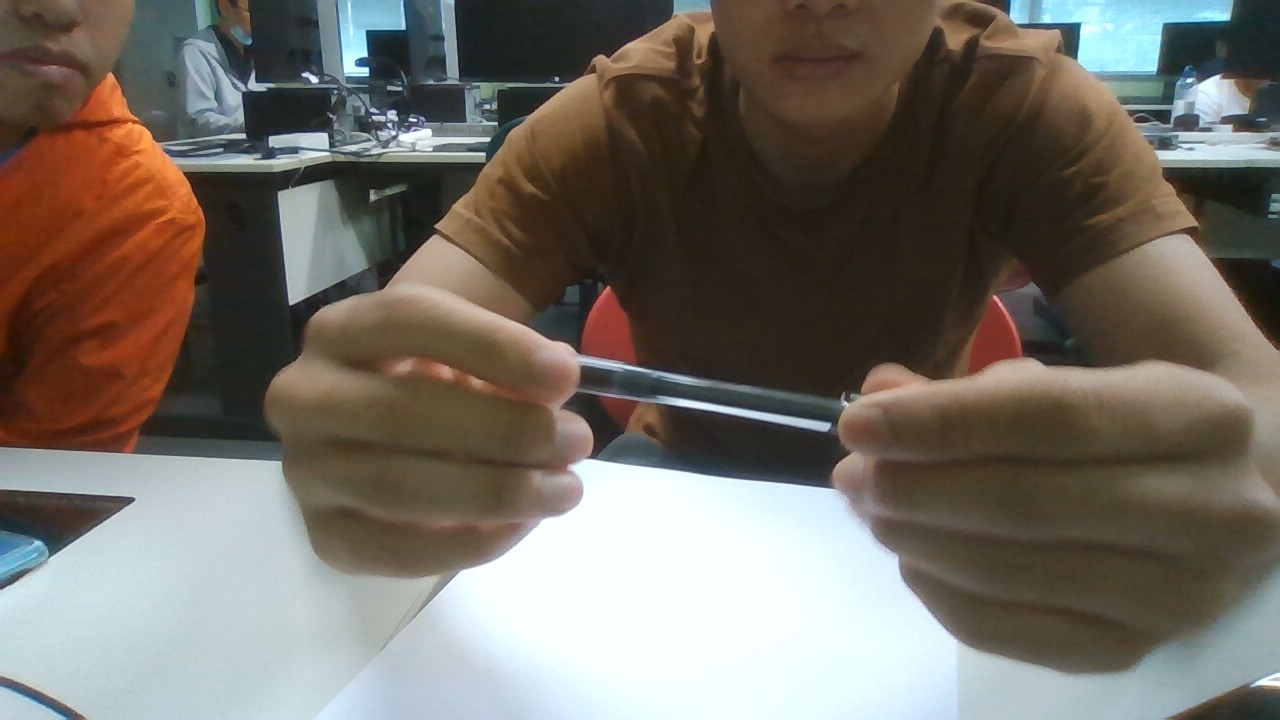pen: (483, 343, 967, 458)
